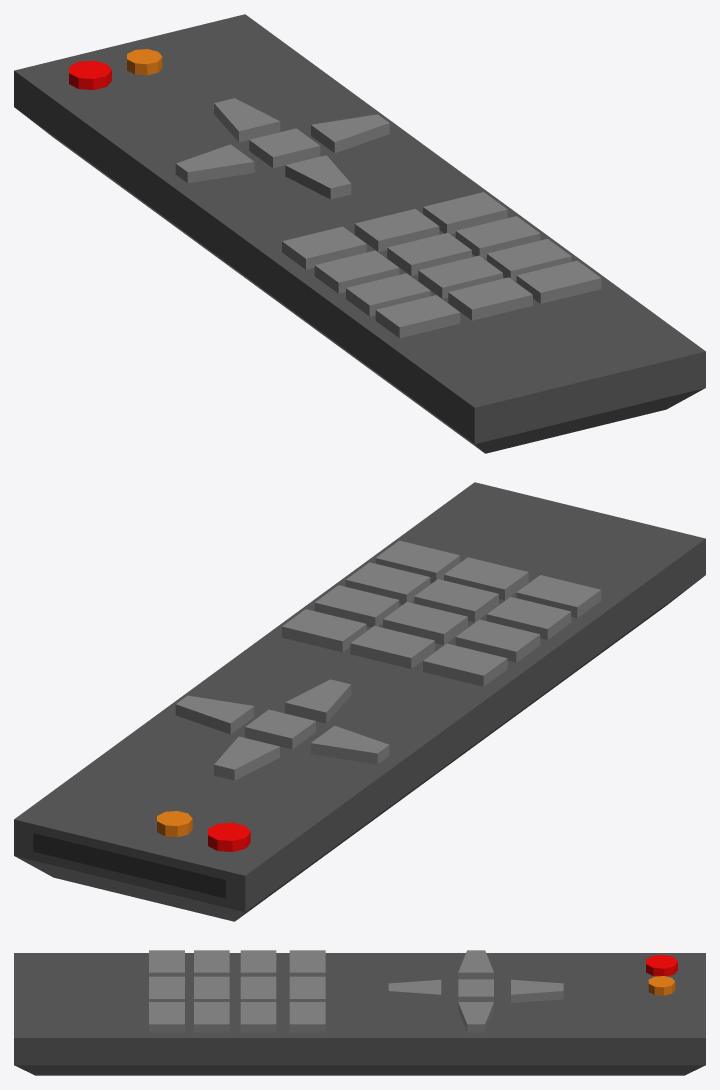
File: Controller_2.fbx
The picture shows the model from 3 angles, top to bottom: view 1: azimuth 30°, elevation 25°; view 2: azimuth 150°, elevation 25°; view 3: azimuth 270°, elevation 25°; orthographic projection. The views are drawn at different scales.
Parts seen in each view (by area): view 1: Controller_2; view 2: Controller_2; view 3: Controller_2.
Part boxes in pixels (box(x1,y1,x2,y2)): Controller_2: box(14, 14, 705, 453); Controller_2: box(14, 482, 705, 921); Controller_2: box(14, 950, 705, 1075).
Size of the model in its own units: 9.16 by 2.79 by 31.61.
